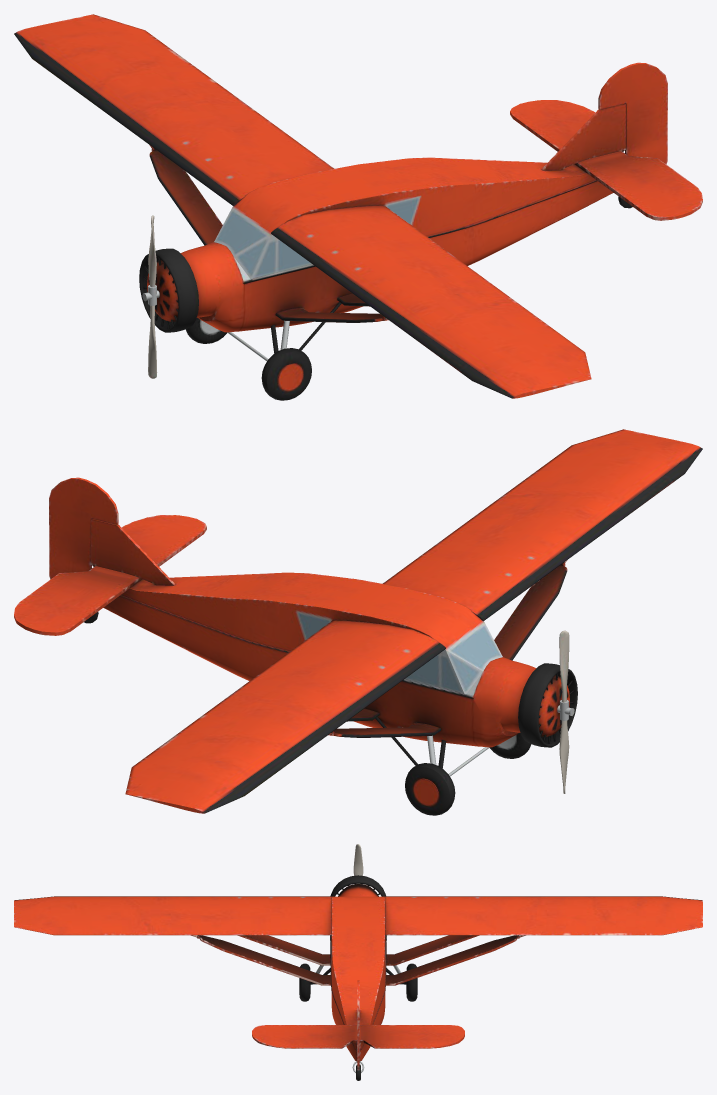
Rendered from airplane-red.glb.
The picture shows the model from 3 angles, top to bottom: view 1: azimuth 30°, elevation 25°; view 2: azimuth 150°, elevation 25°; view 3: azimuth 270°, elevation 25°; orthographic projection. The views are drawn at different scales.
Visible parts, largest first — view 1: Miss-Veedoh, Gouvernaille, Hélice; view 2: Miss-Veedoh, Gouvernaille, Hélice; view 3: Miss-Veedoh.
Part boxes in pixels (<box>): Miss-Veedoh: <box>14,14,702,400</box>; Gouvernaille: <box>598,62,667,164</box>; Hélice: <box>142,215,159,378</box>; Miss-Veedoh: <box>14,429,702,815</box>; Gouvernaille: <box>49,477,118,579</box>; Hélice: <box>557,630,574,793</box>; Miss-Veedoh: <box>14,875,702,1080</box>.
Bounding box in the file's own units: 0.8514 × 0.331 × 1.41.
1 material, 1 textured.
